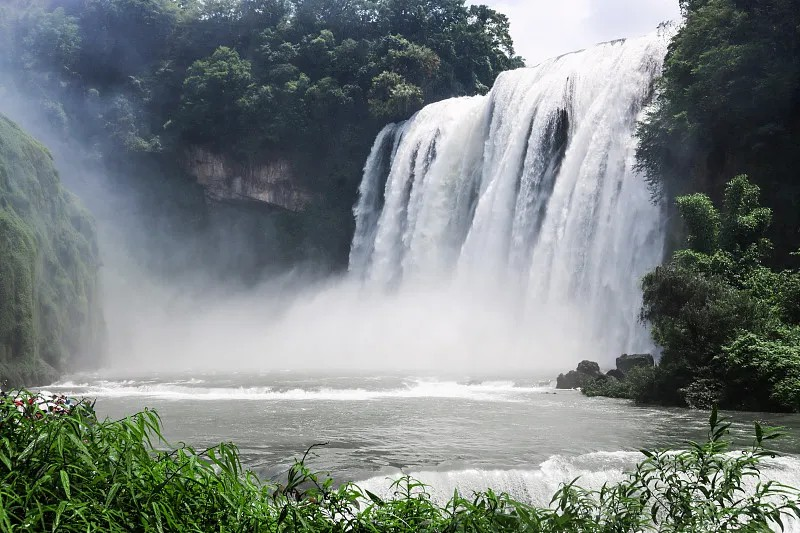Huangguoshu: (348, 26, 671, 379)
